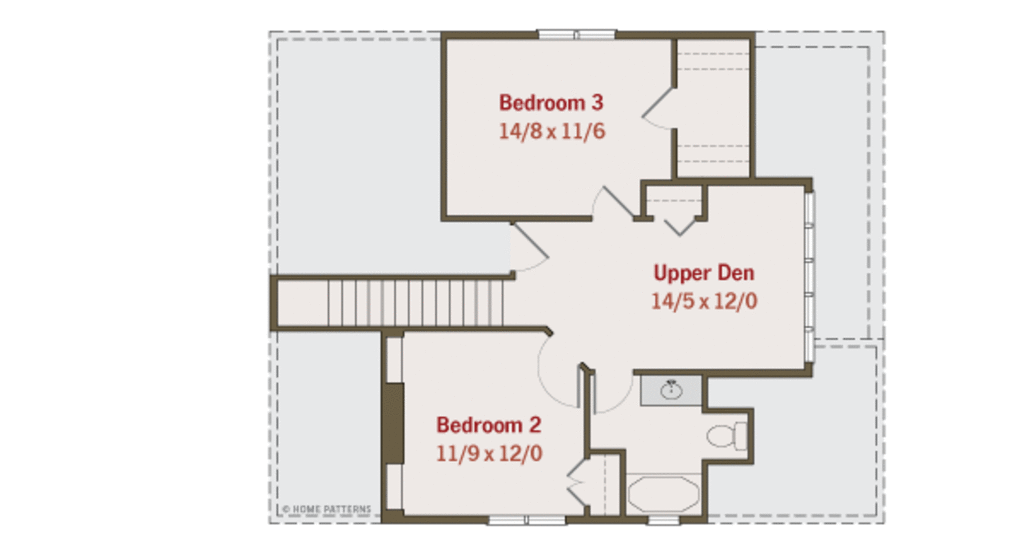door: (532, 325, 584, 413), (579, 173, 646, 223), (636, 84, 694, 132), (593, 367, 635, 420), (562, 454, 597, 508), (510, 222, 550, 269)
large_sink: (696, 413, 749, 454)
small_sink: (640, 374, 705, 406)
stairs: (279, 272, 520, 330)
tub: (624, 473, 710, 515)
window: (799, 187, 828, 368), (481, 505, 571, 528), (536, 25, 624, 44), (642, 510, 687, 530)
